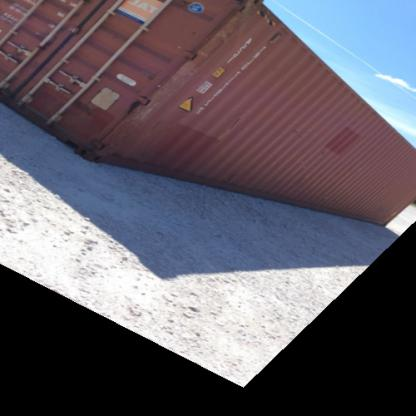Damage: (101, 49, 207, 142), (44, 88, 109, 135), (193, 5, 258, 52)
